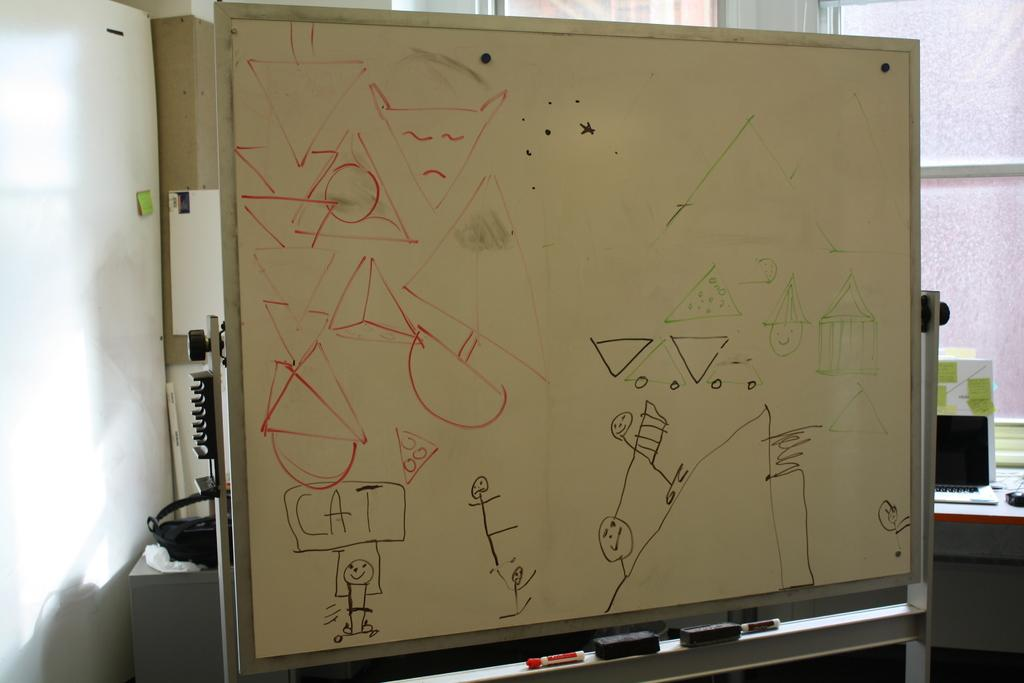Laptop: (933, 413, 998, 505)
